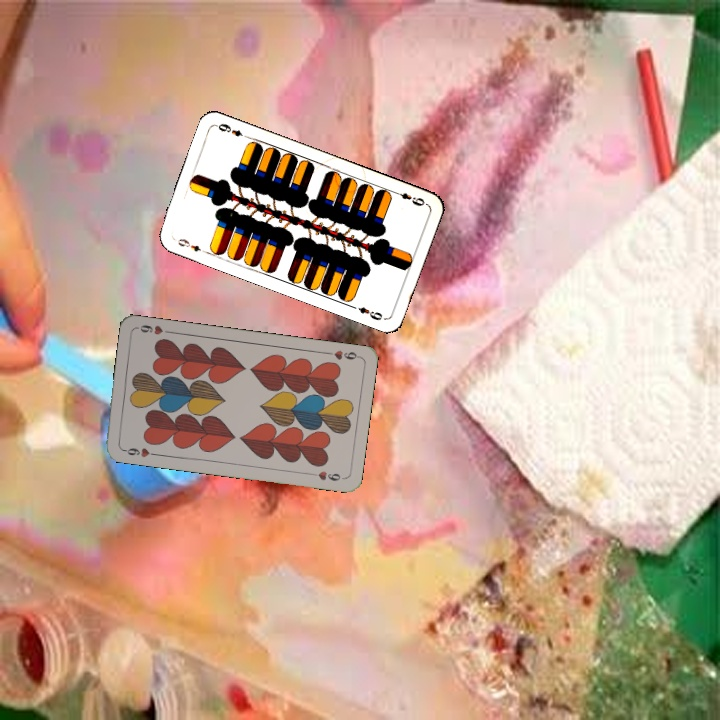E9: (390, 187, 427, 209), (173, 234, 204, 254)
H9: (321, 346, 362, 362), (118, 444, 159, 460)
